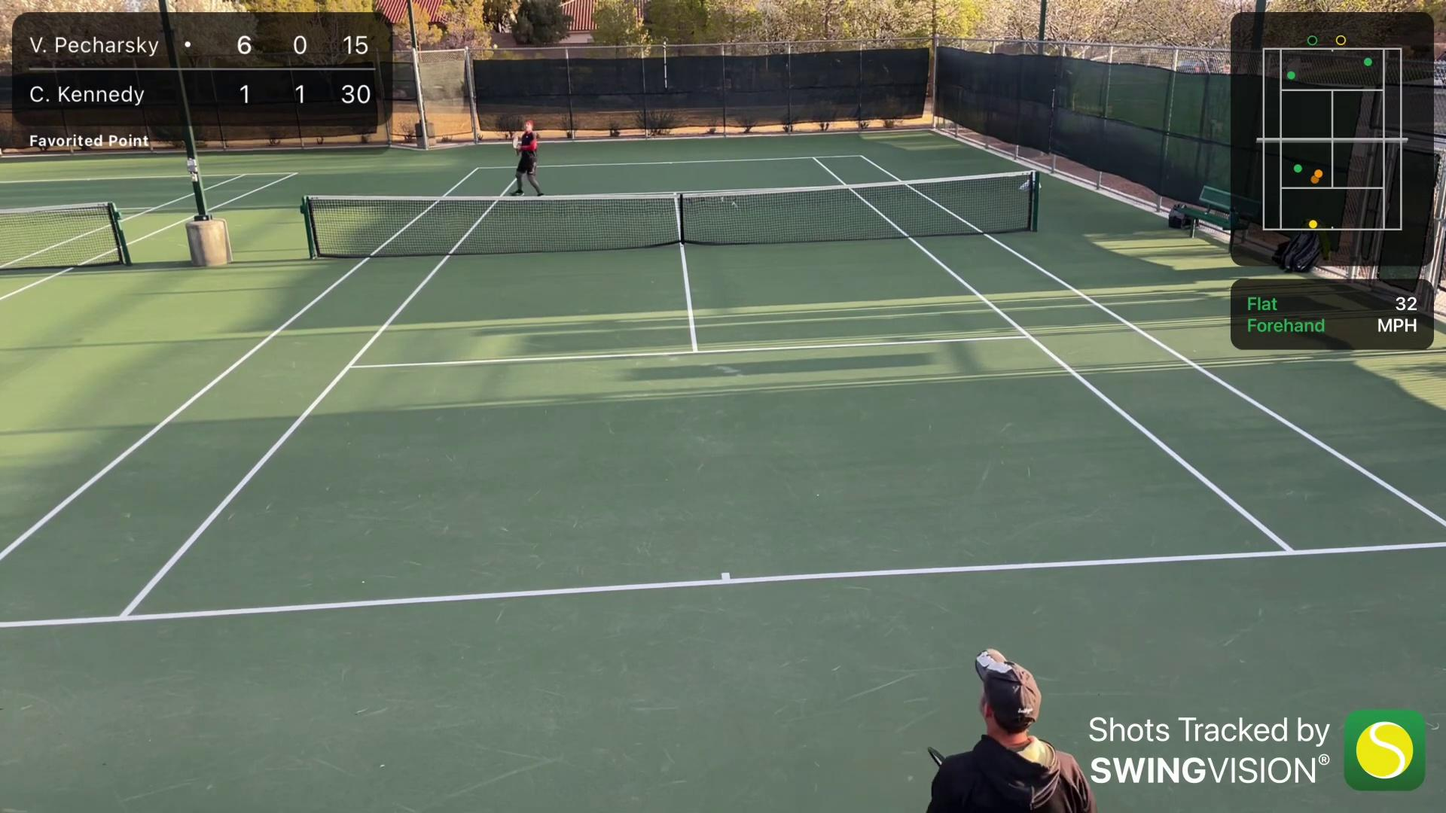ball: (491, 43, 498, 49)
